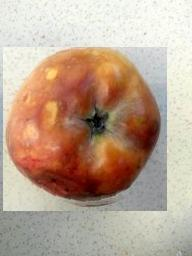Apple Semirotten: (3, 47, 167, 211)
